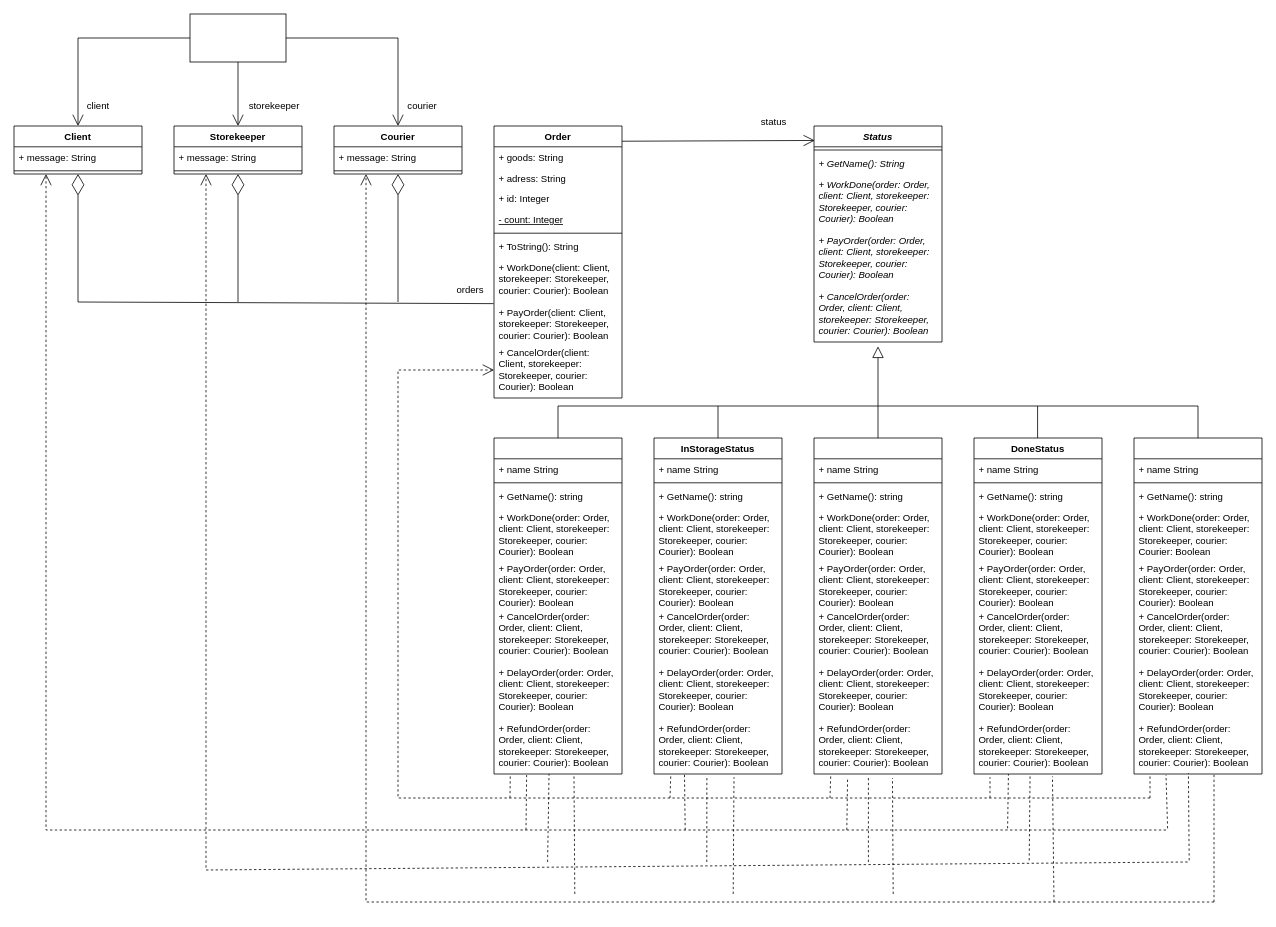
Image size: 1276x927. Some labels were removed from this diagram. Each missing label, with the box of its shape:
CanceledStatus: (1133, 437, 1262, 774)
Form1: (189, 13, 286, 62)
InDeliveryStatus: (813, 437, 942, 774)
PaymentRequiredStatus: (493, 437, 622, 774)
